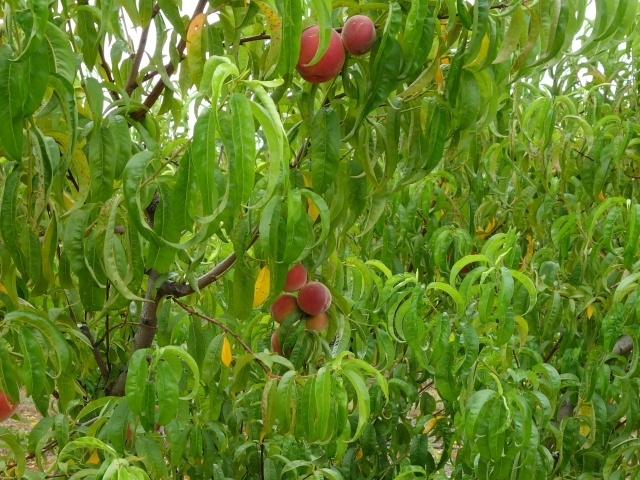peach: (290, 24, 350, 87), (336, 13, 383, 55), (294, 280, 335, 319), (279, 255, 311, 299), (298, 304, 336, 338), (269, 292, 305, 327), (263, 322, 290, 361), (1, 390, 18, 424)
